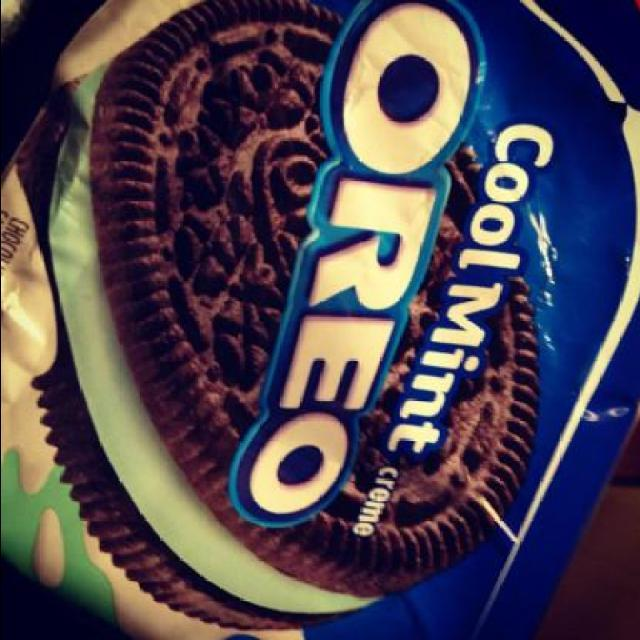Cookie: (33, 0, 545, 632)
